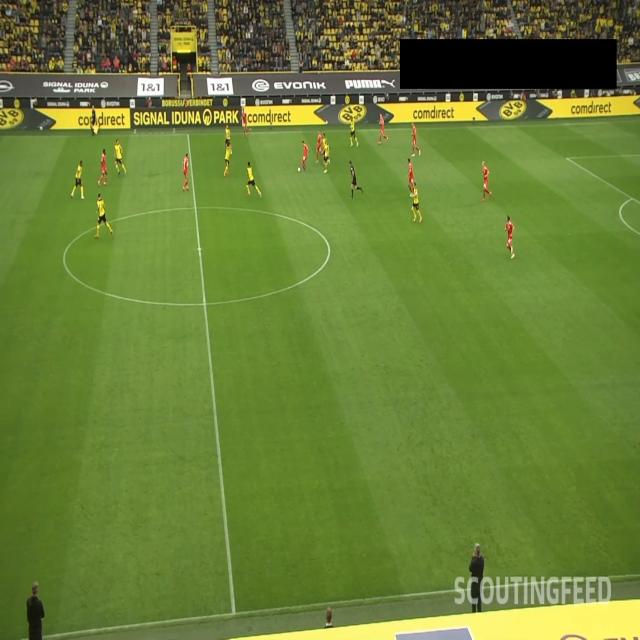ball: (297, 166, 301, 173)
